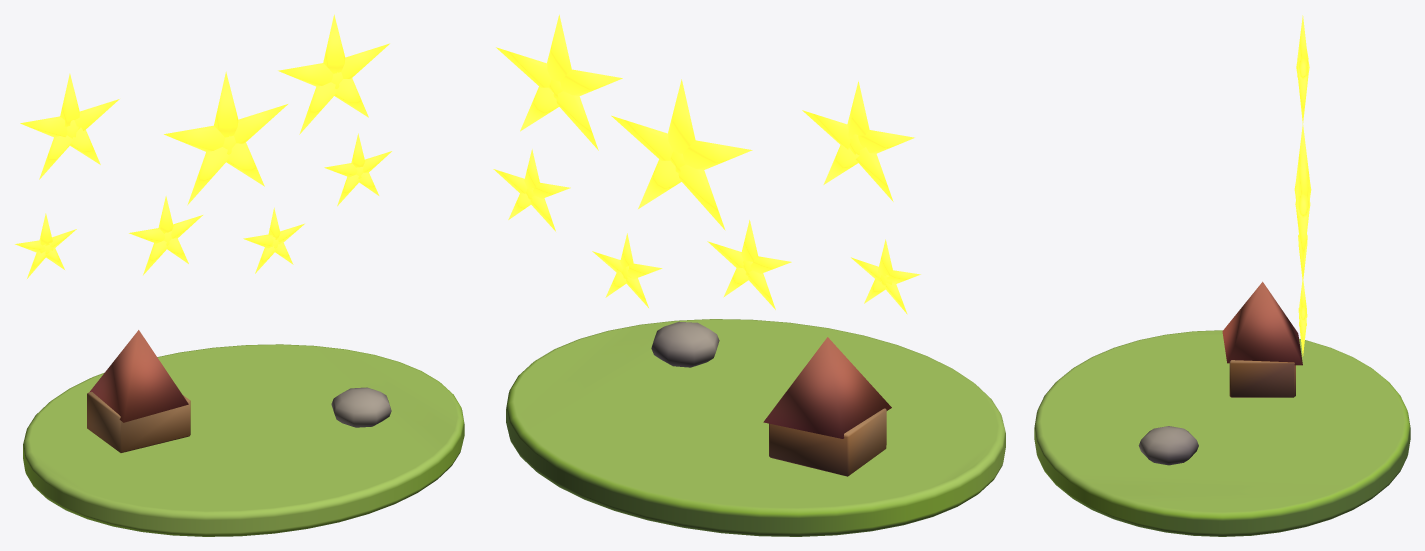
Rendered from stars.glb.
3 views of the same model, side by side, from view 1: azimuth 30°, elevation 25°; view 2: azimuth 150°, elevation 25°; view 3: azimuth 270°, elevation 25° (orthographic). The views are drawn at different scales.
Parts seen in each view (by area): view 1: stars; view 2: stars; view 3: stars.
Boxes of the visible parts, x1,y1,x2,y2 form: stars: (15, 14, 464, 536); stars: (493, 14, 1005, 536); stars: (1034, 15, 1410, 536).
Bounding box in the file's own units: 5.32 × 4.9 × 4.52.
